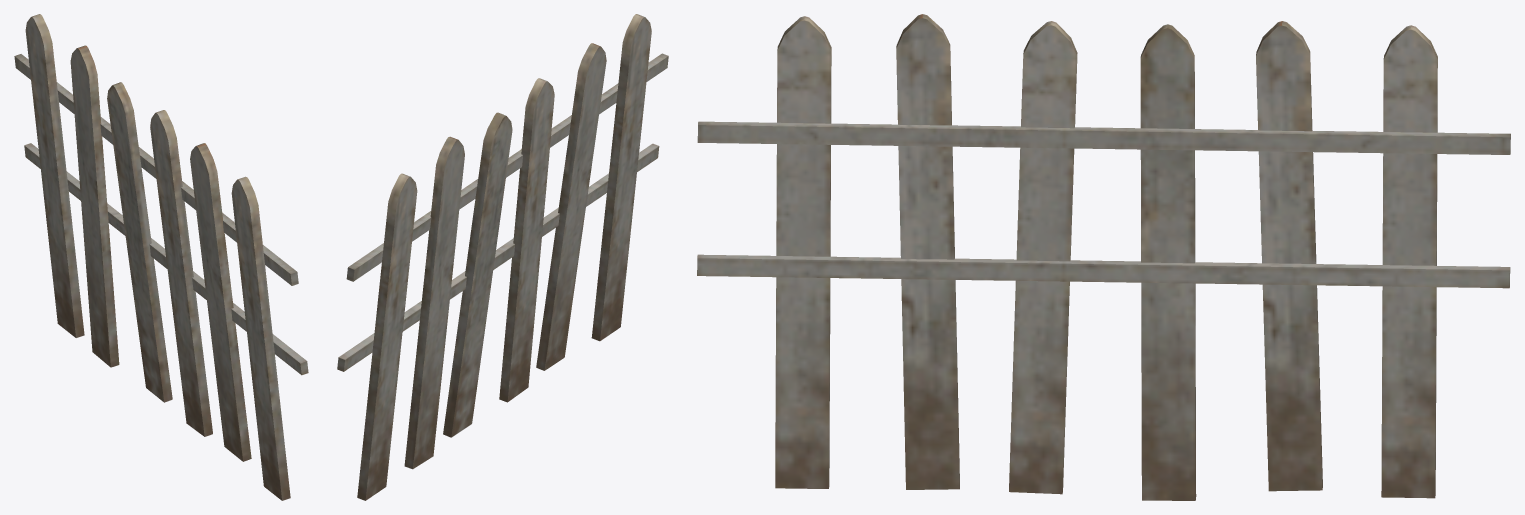
Rendered from Alley_OBJ_Fence_04_M.fbx.
The picture shows the model from 3 angles, left to right: view 1: azimuth 30°, elevation 25°; view 2: azimuth 150°, elevation 25°; view 3: azimuth 270°, elevation 25°; orthographic projection. The views are drawn at different scales.
Visible parts, largest first — view 1: Alley_OBJ_Fence_04_M; view 2: Alley_OBJ_Fence_04_M; view 3: Alley_OBJ_Fence_04_M.
Part boxes in pixels (x1,y1,x2,y2): Alley_OBJ_Fence_04_M: (14, 14, 308, 500); Alley_OBJ_Fence_04_M: (337, 14, 668, 500); Alley_OBJ_Fence_04_M: (697, 14, 1510, 500).
Bounding box in the file's own units: 25.39 × 139 × 227.
Materials: 1 (1 with a texture image).
